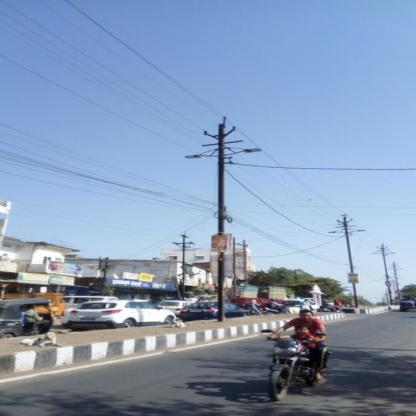Electrical Pole: (177, 113, 258, 320)
